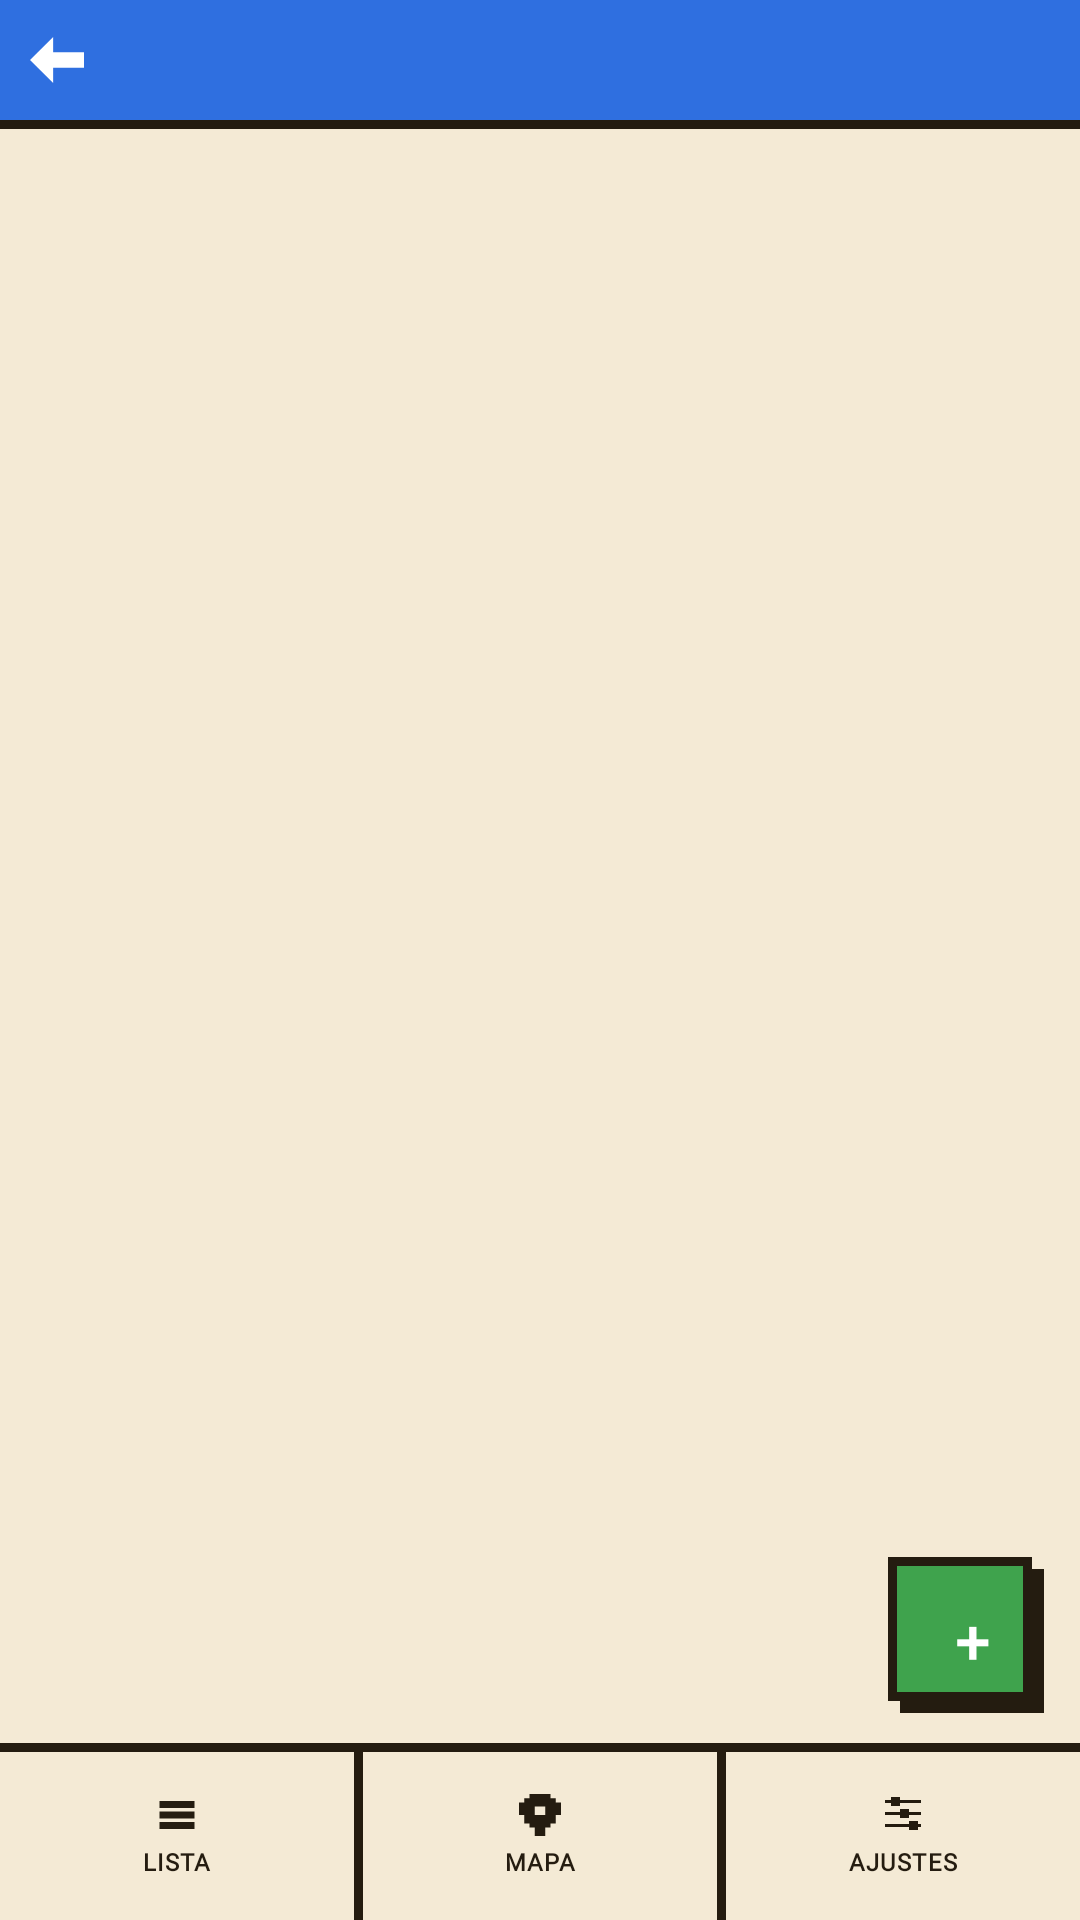

Icon click points for this 1080x1920 phone screenshot, format (x=x, y=y):
Atrás: (x=57, y=60)
